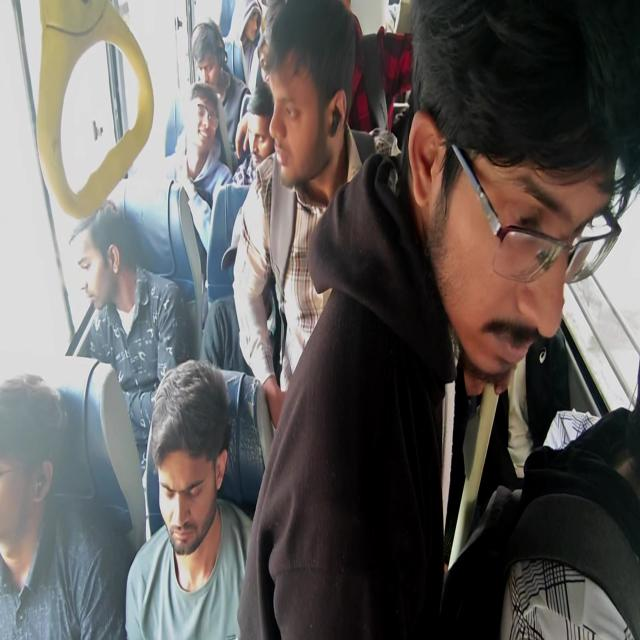person: (436, 131, 608, 392), (267, 7, 358, 192), (143, 402, 237, 570), (204, 182, 272, 330), (1, 374, 67, 466), (71, 202, 135, 270), (181, 110, 219, 156), (228, 5, 262, 45), (248, 104, 268, 170), (195, 44, 222, 90), (222, 39, 247, 86)
